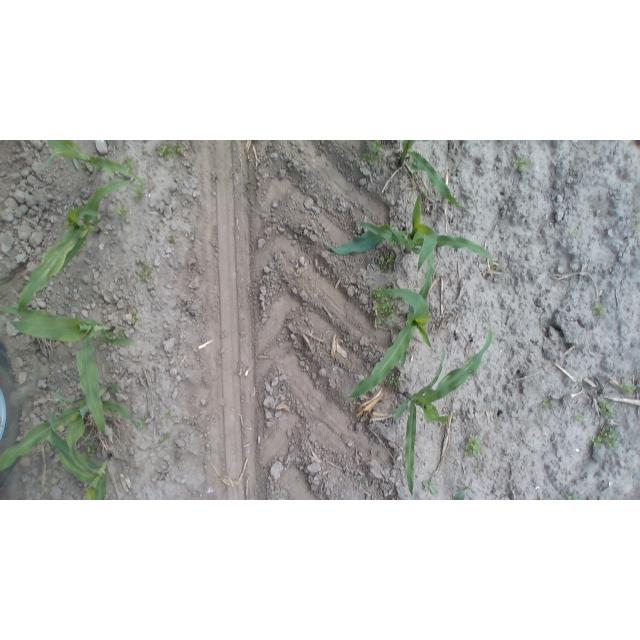Maize: (0, 296, 136, 444), (390, 319, 496, 497), (13, 178, 140, 320), (323, 192, 500, 289), (347, 238, 440, 399), (0, 382, 144, 468), (47, 402, 117, 500), (394, 141, 471, 216), (39, 140, 150, 186), (449, 486, 471, 500)
Weeds: (369, 288, 397, 329), (592, 421, 620, 451), (154, 141, 187, 161), (361, 141, 385, 168), (463, 434, 485, 460), (377, 250, 396, 274), (590, 299, 609, 319), (511, 155, 532, 173), (597, 400, 616, 418), (421, 477, 439, 496), (138, 262, 154, 282), (621, 379, 639, 396), (542, 394, 559, 411), (121, 155, 137, 172), (114, 205, 131, 220), (133, 182, 145, 203), (136, 414, 151, 430), (129, 307, 141, 325), (83, 442, 97, 457), (387, 375, 401, 389), (563, 491, 582, 500), (574, 412, 587, 425), (113, 328, 126, 339), (159, 432, 170, 445), (314, 144, 324, 158), (167, 233, 177, 245), (474, 464, 487, 473), (321, 199, 330, 212), (163, 410, 173, 420), (569, 228, 579, 238), (357, 477, 367, 487), (223, 141, 234, 148), (631, 221, 638, 232)
